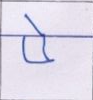e_matra: (24, 14, 46, 35)
